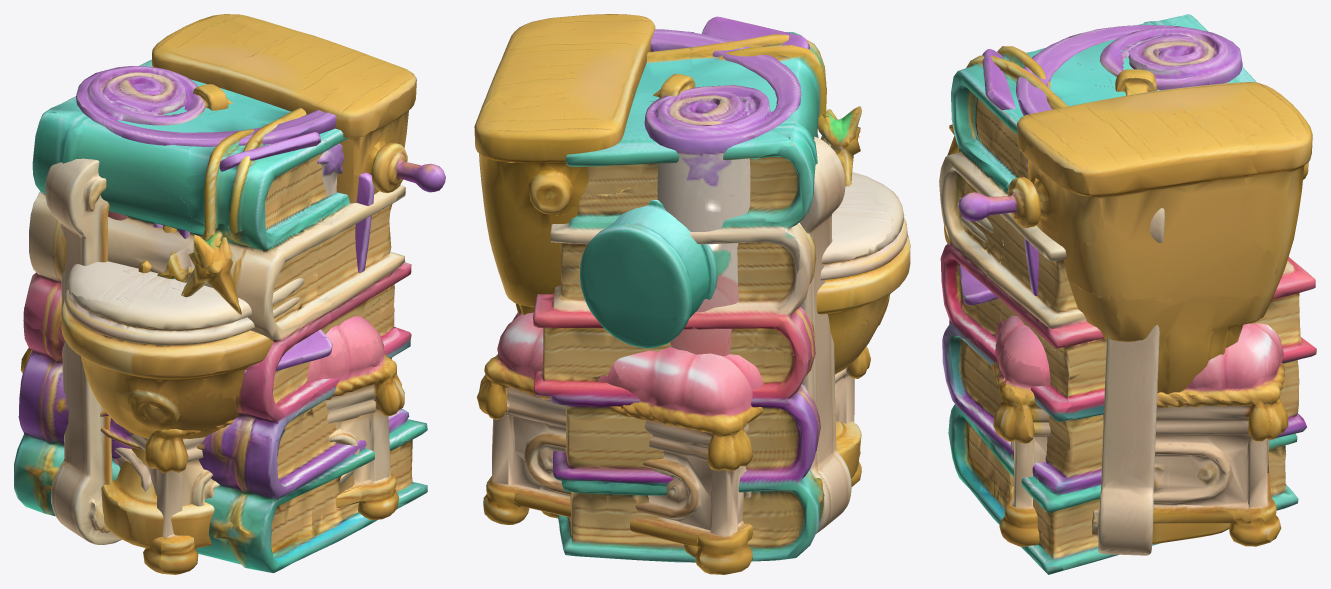
Rendered from store_items_sheet_15_mobile.glb.
The picture shows the model from 3 angles, left to right: view 1: azimuth 30°, elevation 25°; view 2: azimuth 150°, elevation 25°; view 3: azimuth 270°, elevation 25°; orthographic projection. The views are drawn at different scales.
Visible parts, largest first — view 1: book_stack, golden_toilet, crown_display, skylight_poster, peach_wall, studio_spot; view 2: book_stack, golden_toilet, crown_display, peach_wall, studio_spot, skylight_poster; view 3: golden_toilet, book_stack, crown_display, skylight_poster, peach_wall, studio_spot.
Boxes of the visible parts, bbox=[...] form: book_stack: bbox=[14, 59, 427, 573]; golden_toilet: bbox=[61, 14, 445, 548]; crown_display: bbox=[20, 89, 404, 574]; skylight_poster: bbox=[45, 84, 378, 544]; peach_wall: bbox=[76, 66, 344, 464]; studio_spot: bbox=[178, 132, 374, 374]; book_stack: bbox=[533, 32, 861, 562]; golden_toilet: bbox=[474, 14, 910, 518]; crown_display: bbox=[477, 75, 870, 574]; peach_wall: bbox=[644, 29, 801, 356]; studio_spot: bbox=[580, 16, 809, 557]; skylight_poster: bbox=[651, 74, 851, 533]; golden_toilet: bbox=[944, 82, 1312, 544]; book_stack: bbox=[939, 14, 1316, 574]; crown_display: bbox=[989, 72, 1288, 546]; skylight_poster: bbox=[1091, 69, 1164, 555]; peach_wall: bbox=[1016, 25, 1242, 166]; studio_spot: bbox=[959, 49, 1038, 305].
Size of the model in its own units: 1.38 by 1.55 by 1.27.
Materials: 1 (1 with a texture image).
